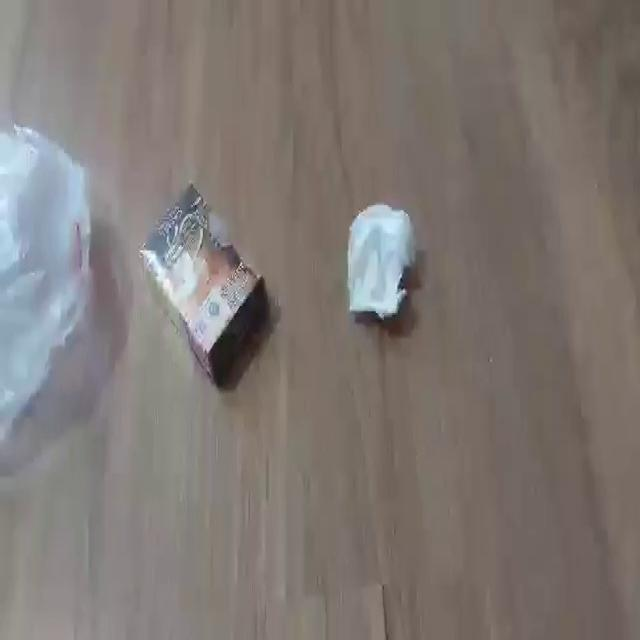Anorganik: (1, 117, 96, 452)
Organik: (136, 172, 272, 391), (344, 193, 421, 329)
